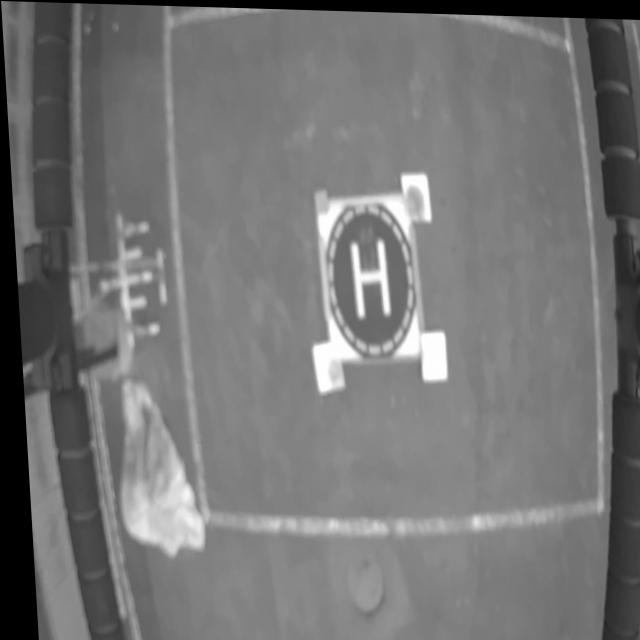Helipad: (345, 236, 388, 311)
